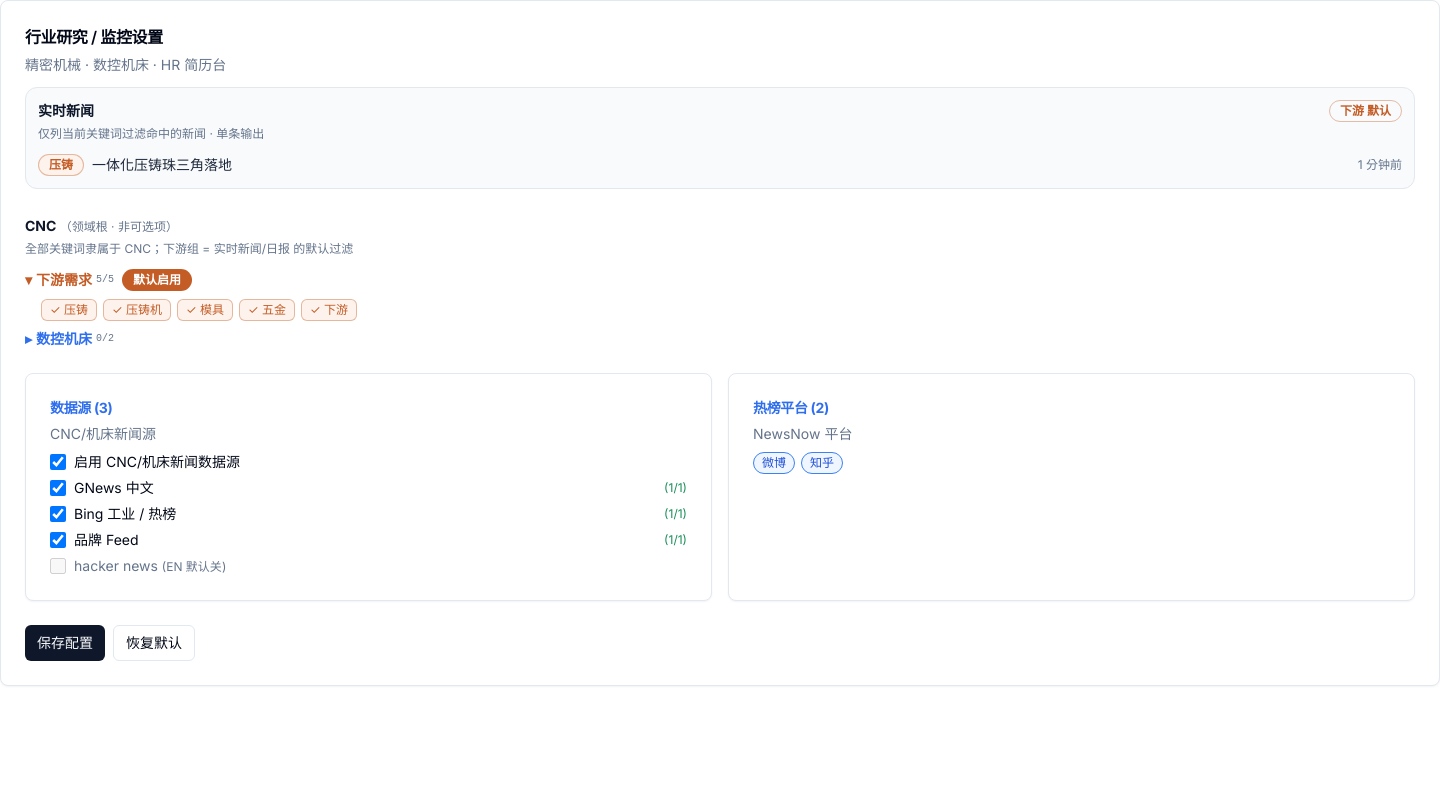
ResearchSettingsPanel › collapsed groups expand on click; downstream expanded by default
Step 1. Click the button with test id "research-tree-group-cnc-core" → point(70, 339), box [25,329,114,349]
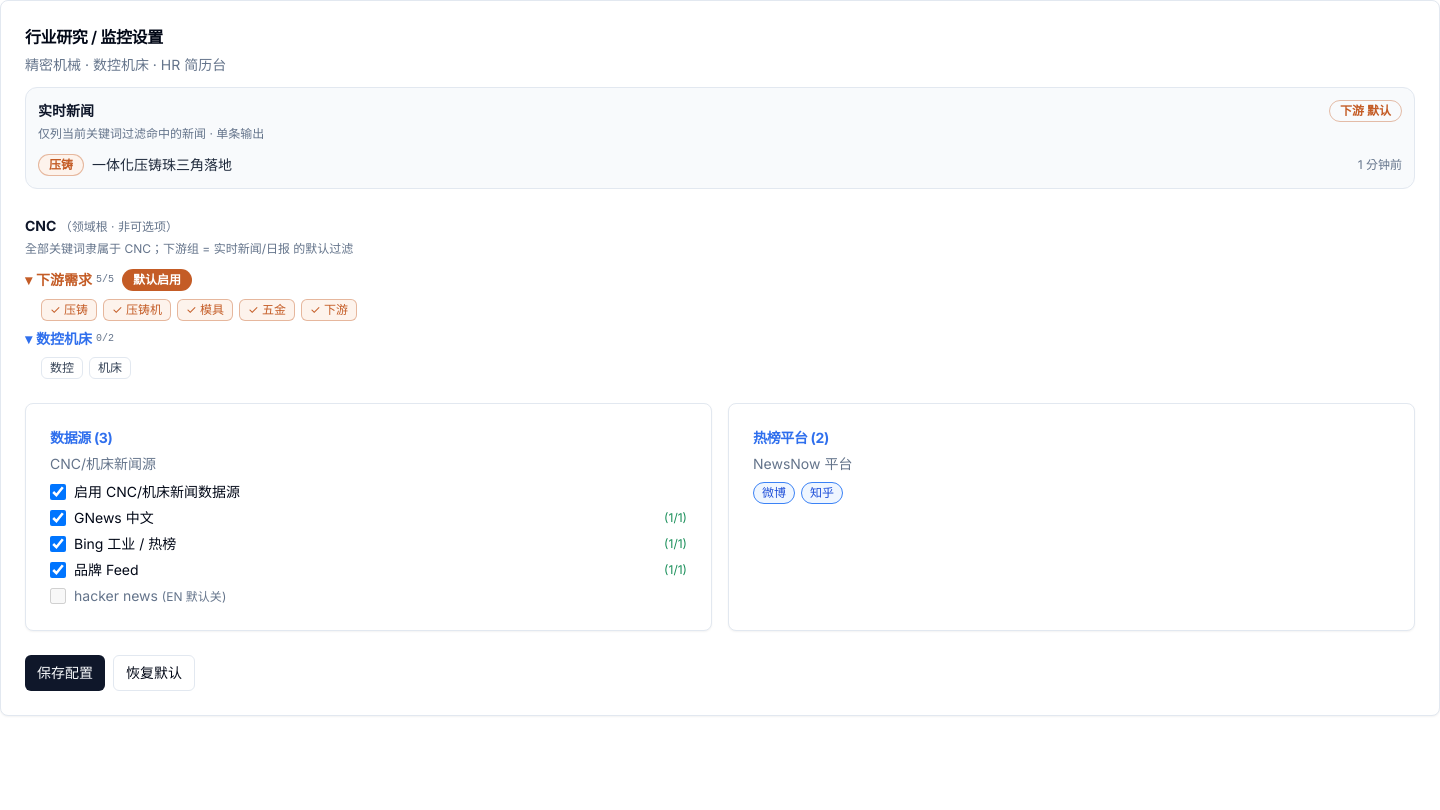
Now the button with test id "research-tree-group-cnc-core" is expanded, box [25,329,114,349]
Now the button with test id "research-tree-kw-chip" showing "数控" is shown, box [41,357,83,379]
